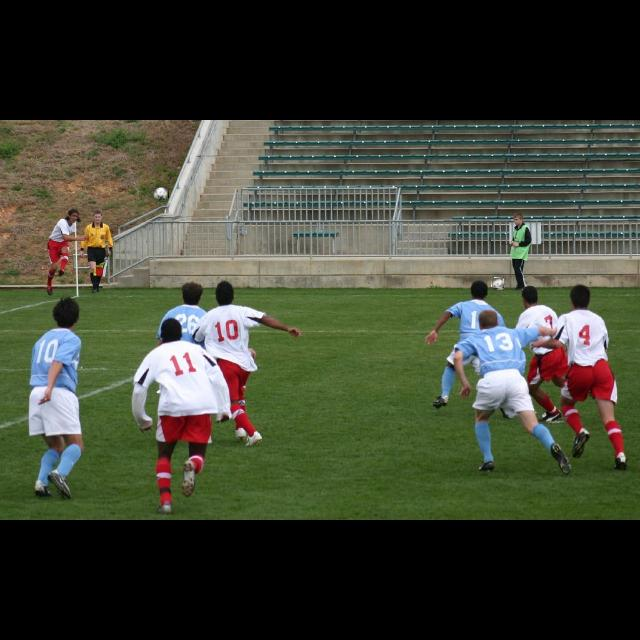Football: (153, 186, 169, 198), (492, 278, 504, 288)
